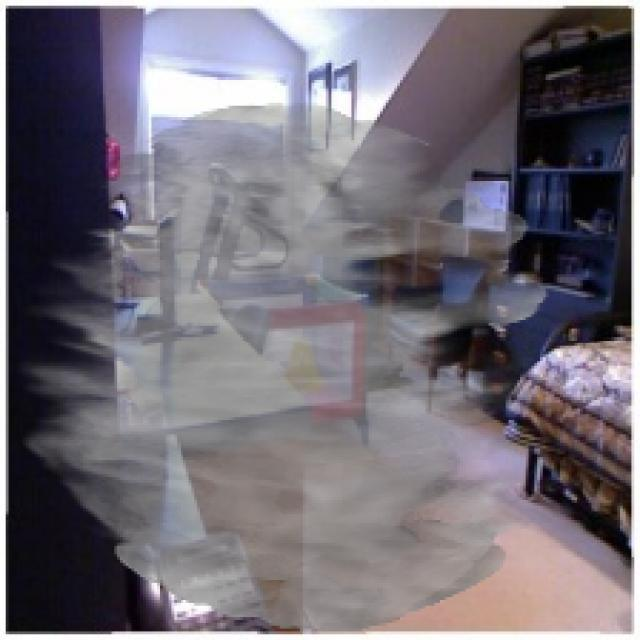Smoke: (17, 103, 549, 632)
